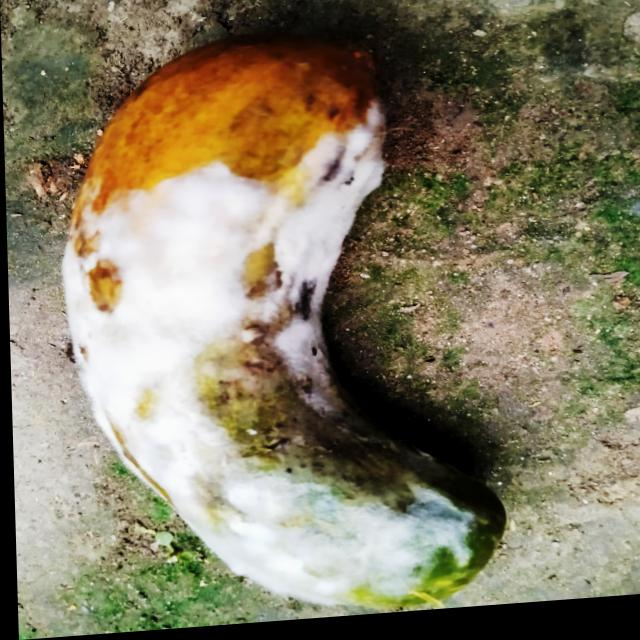Pythium-Fruit-Rot: (57, 95, 476, 628)
